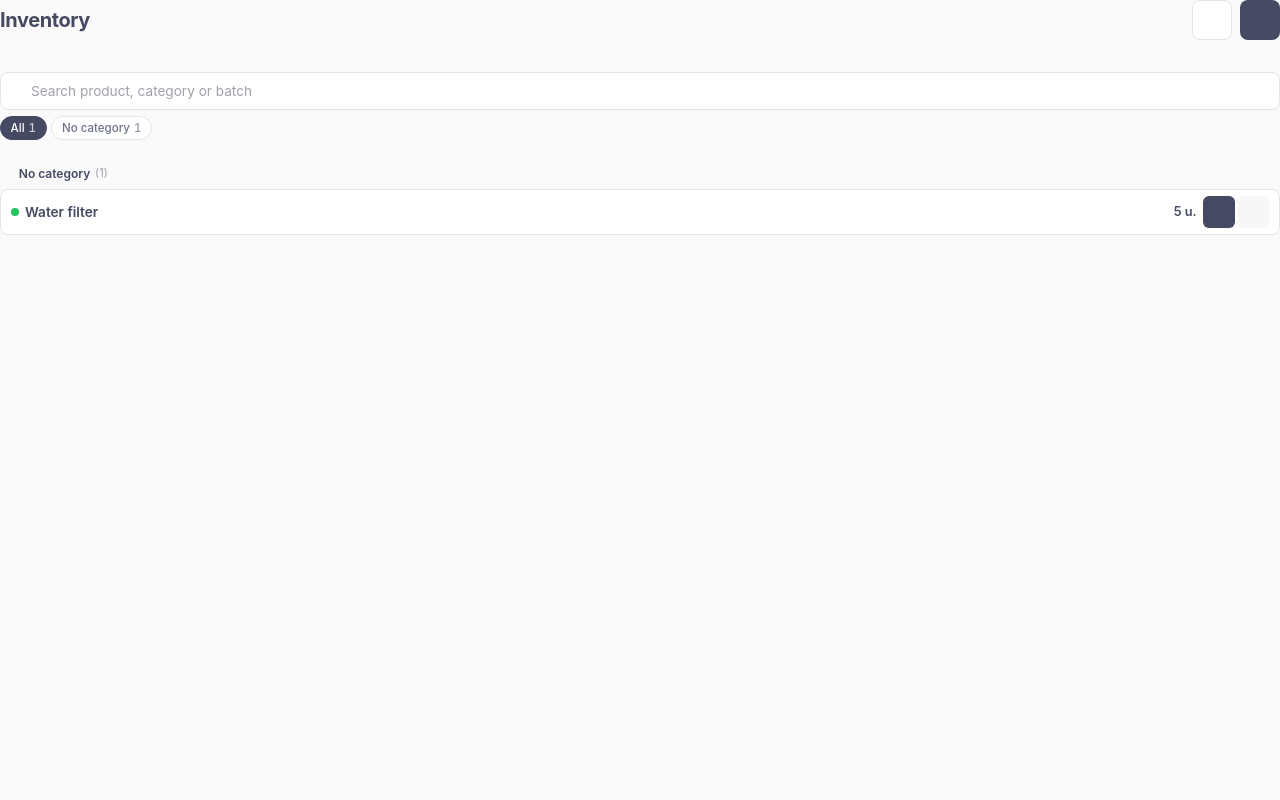
Scenario: InventoryPage — −1 lot picker › cancelling the modal does not consume
expect the text "Water filter" is shown: met, box [25,204,98,220]
Step 1. Click the button named "Consume 1 unit" → x=1219, y=212, box [1203,196,1235,228]
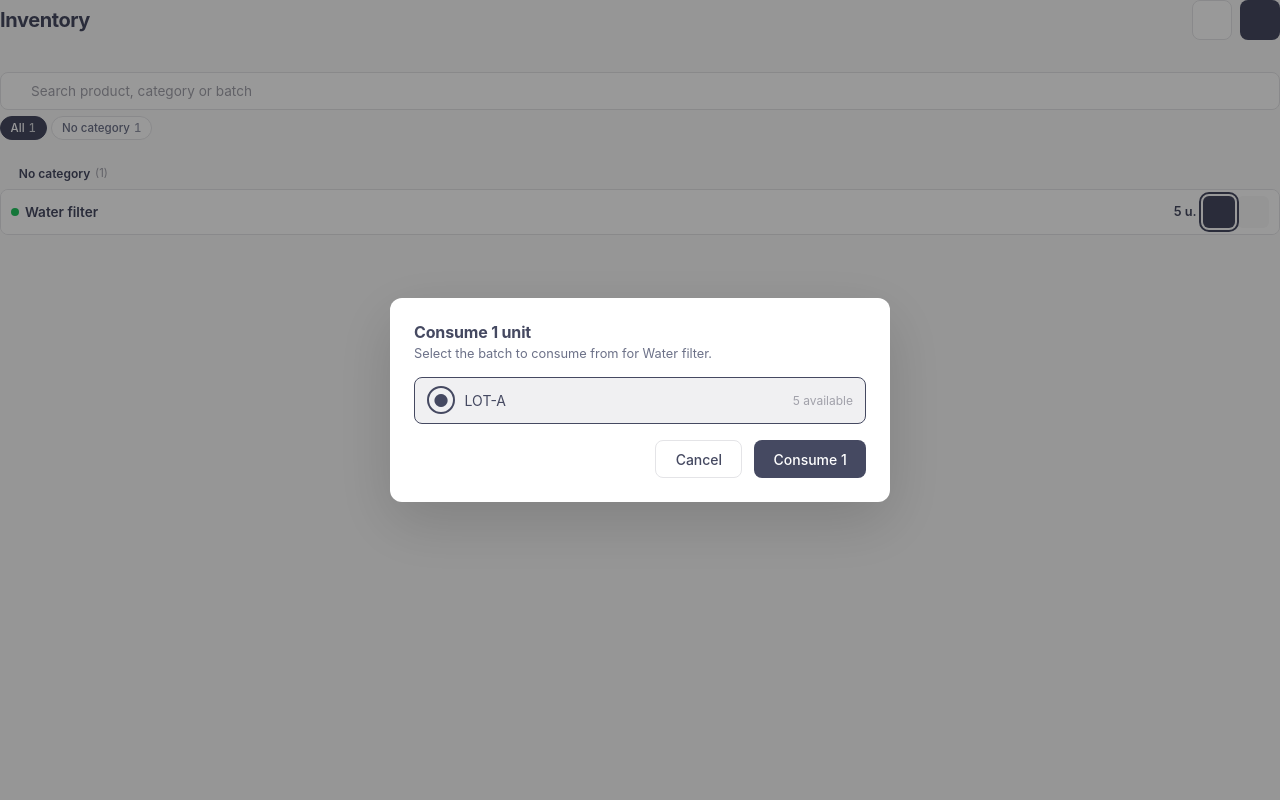
Step 2. Click the button "Cancel" → x=699, y=459, box [656,440,742,478]
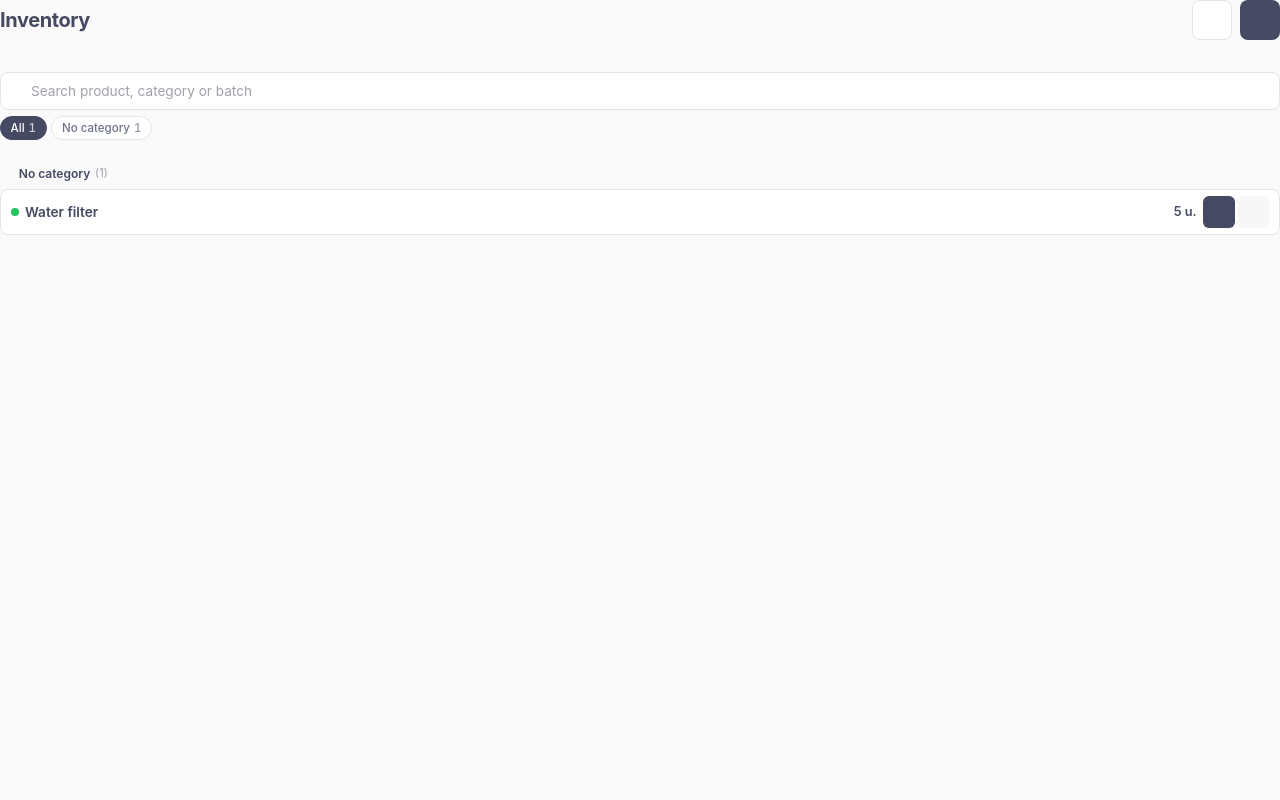
expect the dialog is gone: met
